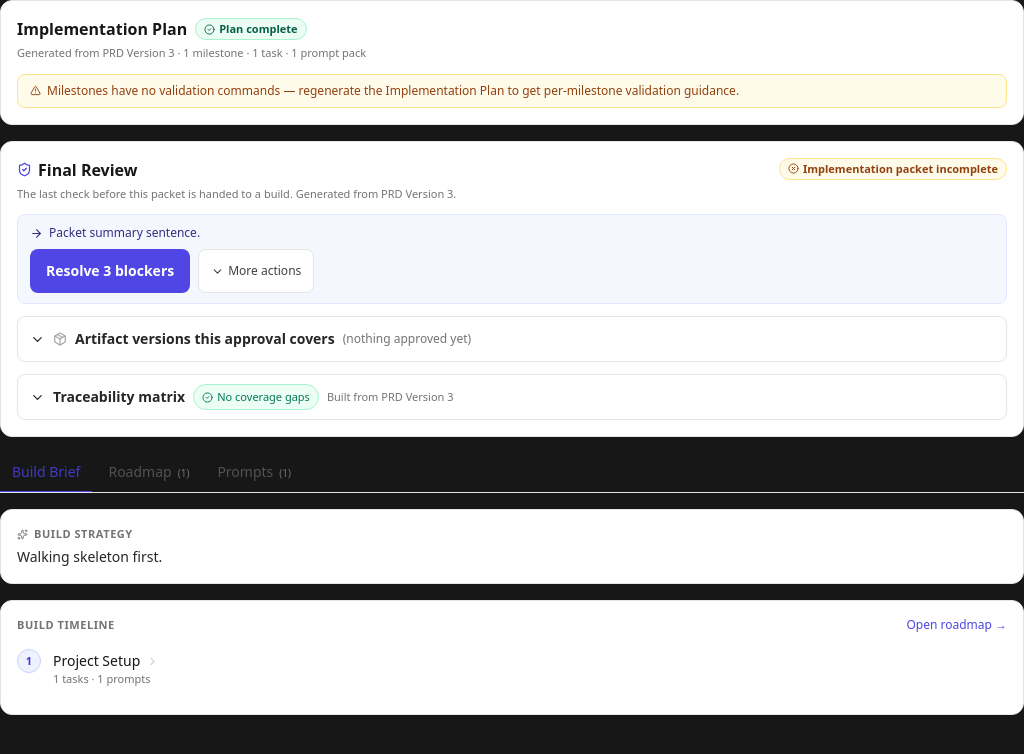
Final Review — the one blocker list › shows each blocker title, consequence and remedy
The image size is (1024, 754).
Click the button with test id "final-review-primary". click: (110,271)
box: [30,249,190,293]
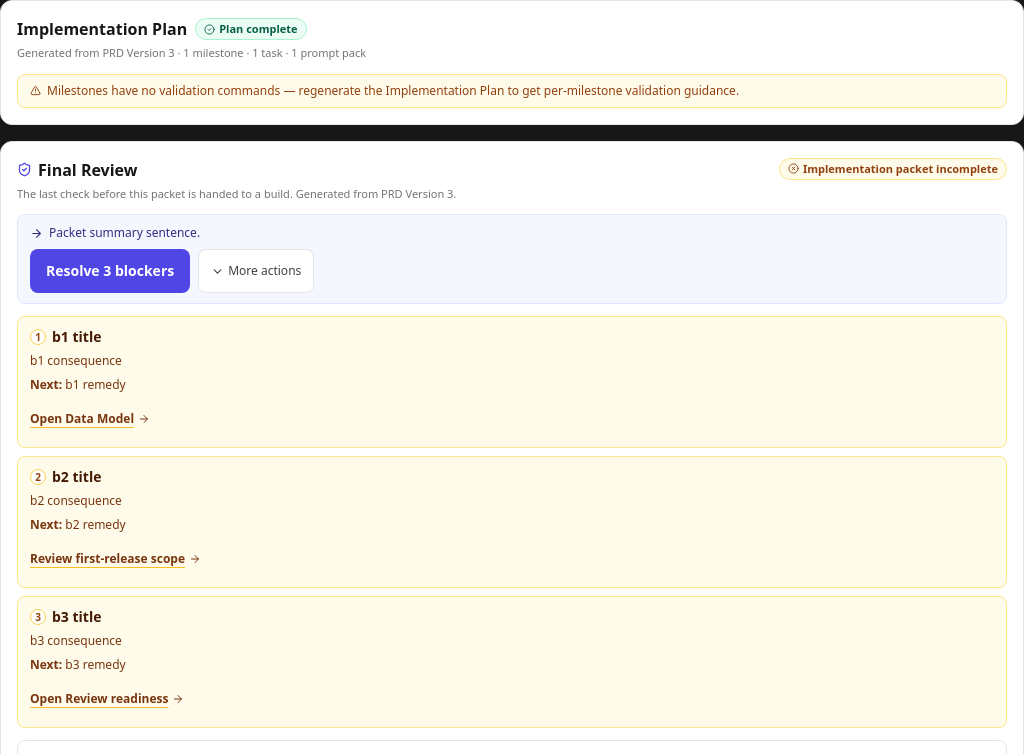
Now the text "b1 title" is shown, box [52,327,102,346]
Now the text "b1 consequence" is shown, box [30,352,122,369]
Now the text "Next: b1 remedy" is shown, box [30,376,126,393]
